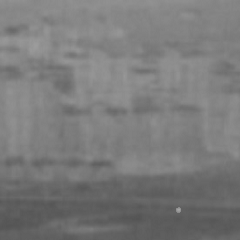Target: (175, 206, 182, 214)
